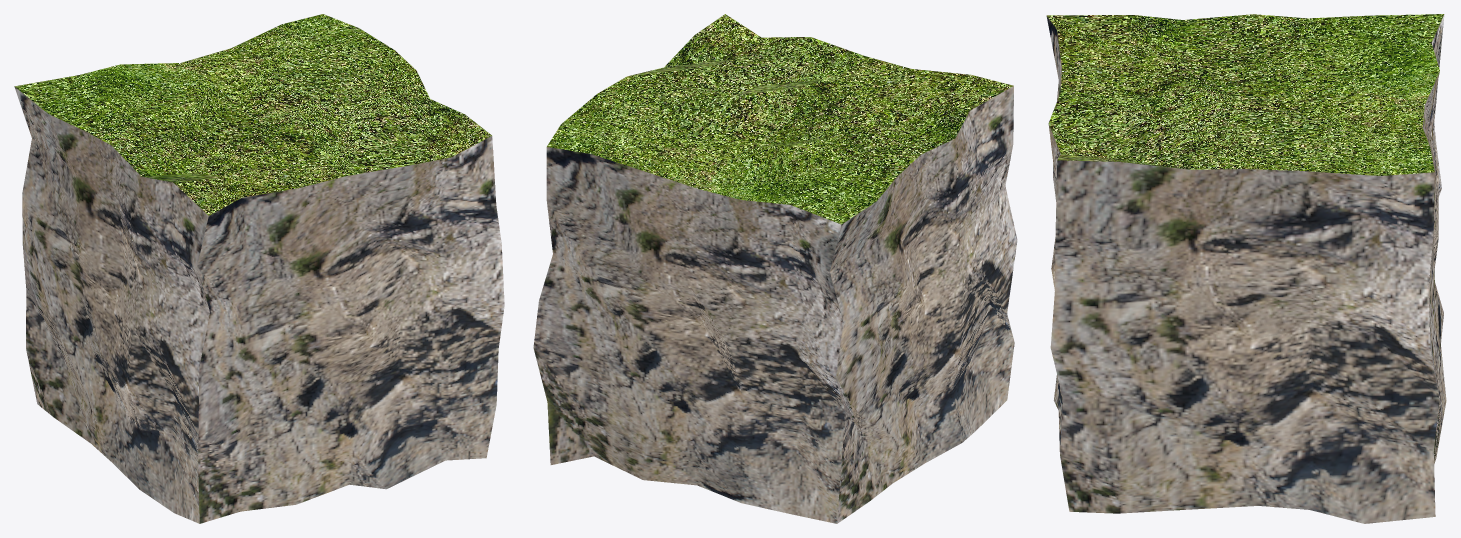
File: MeshLibrary.glb
3 renders of one model, left to right at view 1: azimuth 30°, elevation 25°; view 2: azimuth 150°, elevation 25°; view 3: azimuth 270°, elevation 25°, orthographic. The views are drawn at different scales.
Parts seen in each view (by area): view 1: WallBlock; view 2: WallBlock; view 3: WallBlock.
Boxes of the visible parts, <box> form: WallBlock: <box>14,14,504,523</box>; WallBlock: <box>533,14,1017,523</box>; WallBlock: <box>1046,14,1446,523</box>.
Size of the model in its own units: 24.22 by 24.34 by 24.5.
3 materials, 3 textured.
